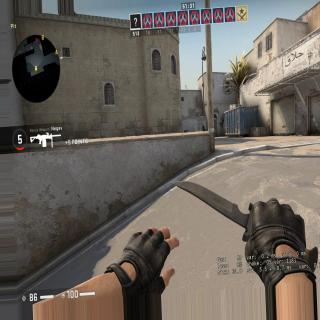CT-Body: (202, 124, 205, 130)
CT-Head: (203, 125, 204, 126)
